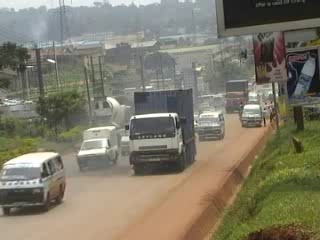Car: (118, 126, 135, 157), (191, 110, 202, 136)
Motorcycle: (236, 100, 245, 119)
